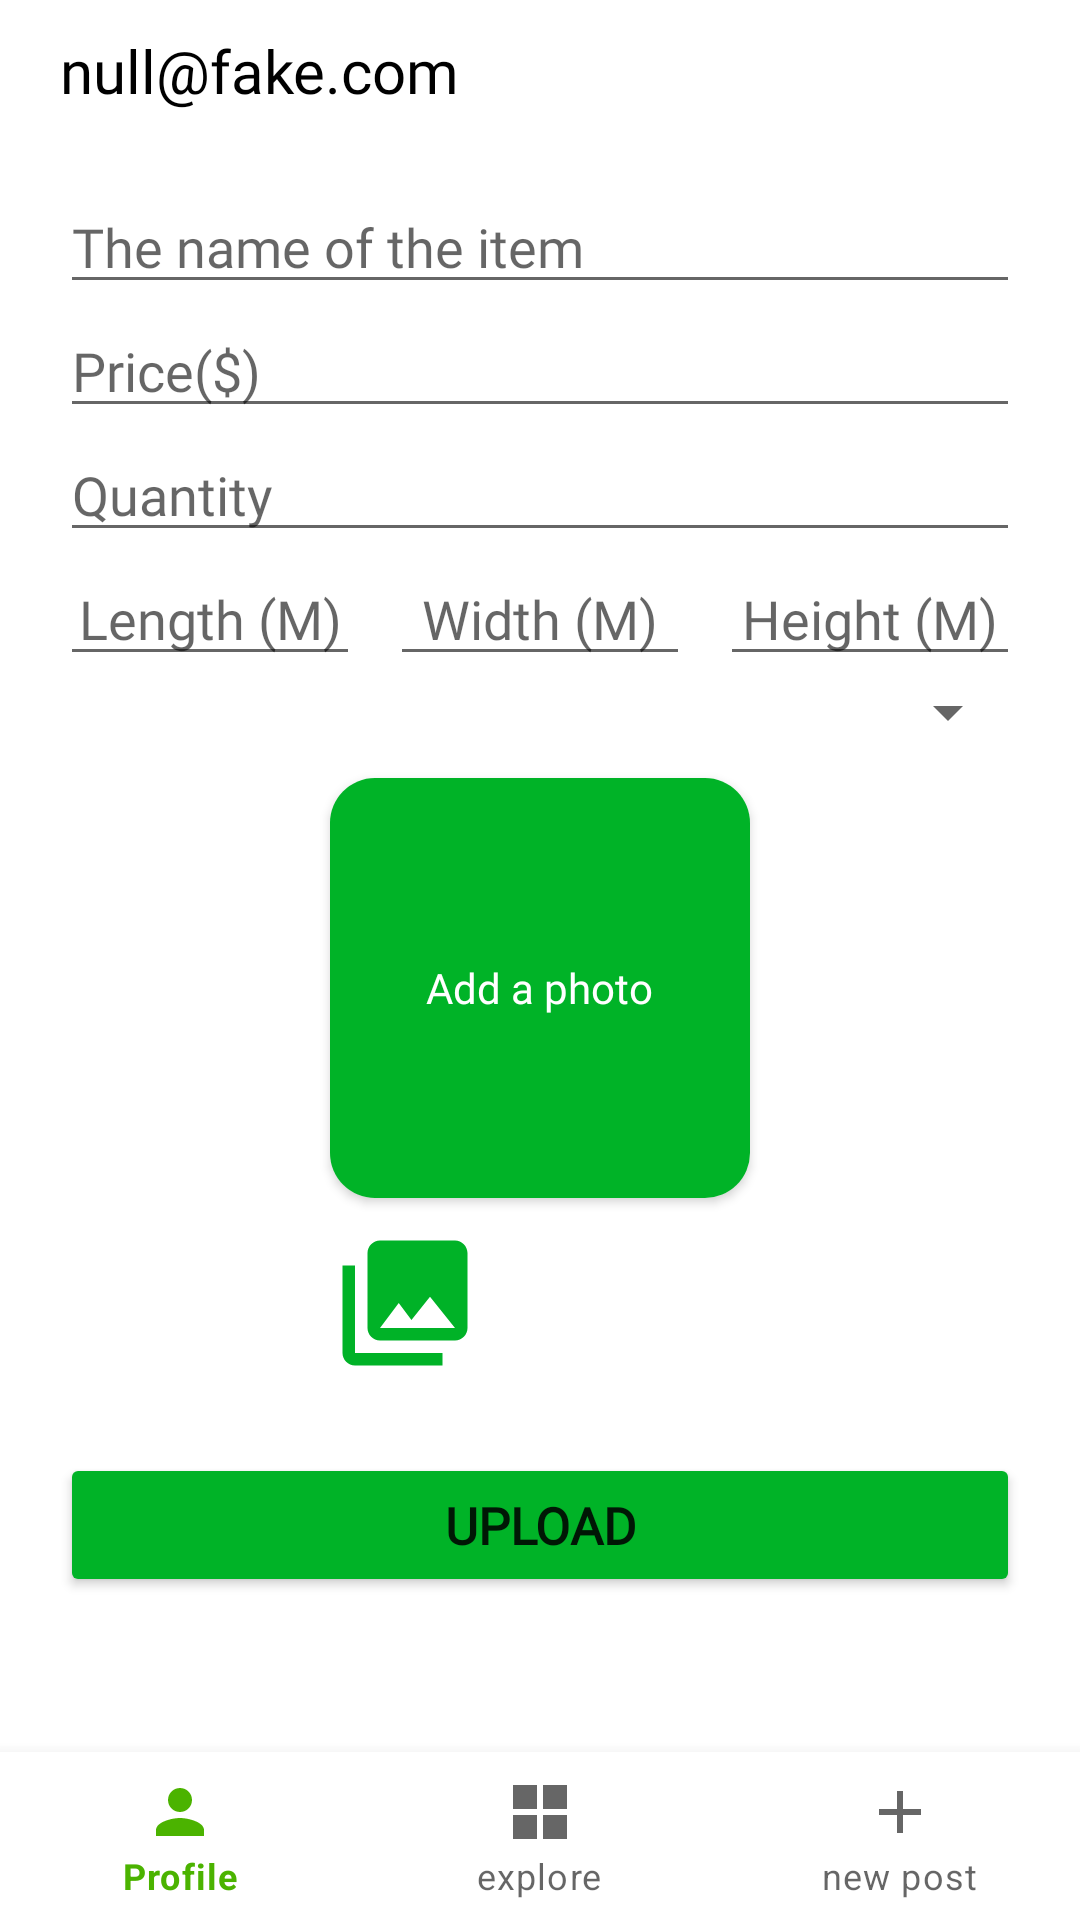

Where icons sit on this 1080px x 1920px app screen, as (x1, y1, x2, y2):
gallery: (342, 1240, 468, 1366)
